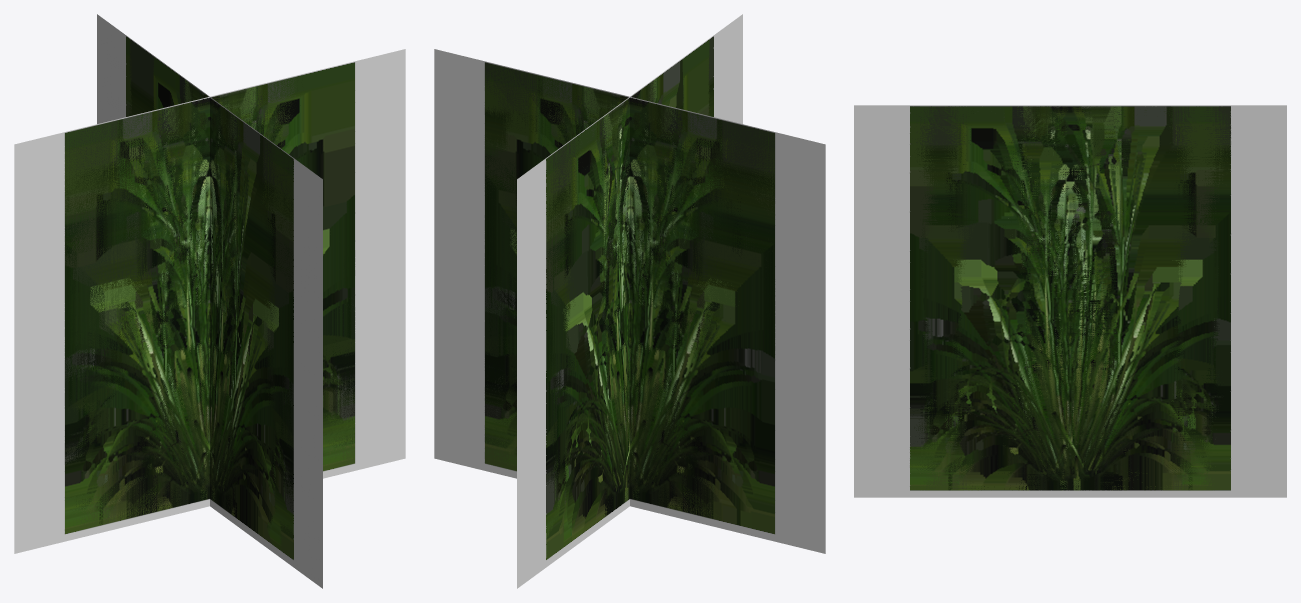
The model's file is SM_Plant.fbx.
The picture shows the model from 3 angles, left to right: view 1: azimuth 30°, elevation 25°; view 2: azimuth 150°, elevation 25°; view 3: azimuth 270°, elevation 25°; orthographic projection. The views are drawn at different scales.
Visible parts, largest first — view 1: pPlane3, pPlane1, pPlane4, pPlane2; view 2: pPlane3, pPlane1, pPlane4, pPlane2; view 3: pPlane2, pPlane4.
Boxes of the visible parts, x1=… form: pPlane3: x1=14, y1=49, x2=405, y2=553; pPlane1: x1=14, y1=49, x2=405, y2=553; pPlane4: x1=97, y1=15, x2=322, y2=585; pPlane2: x1=97, y1=14, x2=322, y2=588; pPlane3: x1=434, y1=49, x2=825, y2=553; pPlane1: x1=434, y1=49, x2=825, y2=553; pPlane4: x1=517, y1=14, x2=742, y2=588; pPlane2: x1=517, y1=14, x2=742, y2=588; pPlane2: x1=854, y1=105, x2=1286, y2=497; pPlane4: x1=854, y1=105, x2=1286, y2=497.
Bounding box in the file's own units: 200 × 200 × 200.
Materials: 1 (1 with a texture image).
